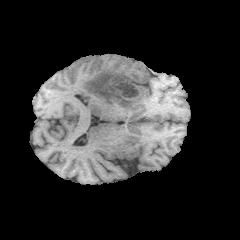glioma: (77, 60, 152, 108)
